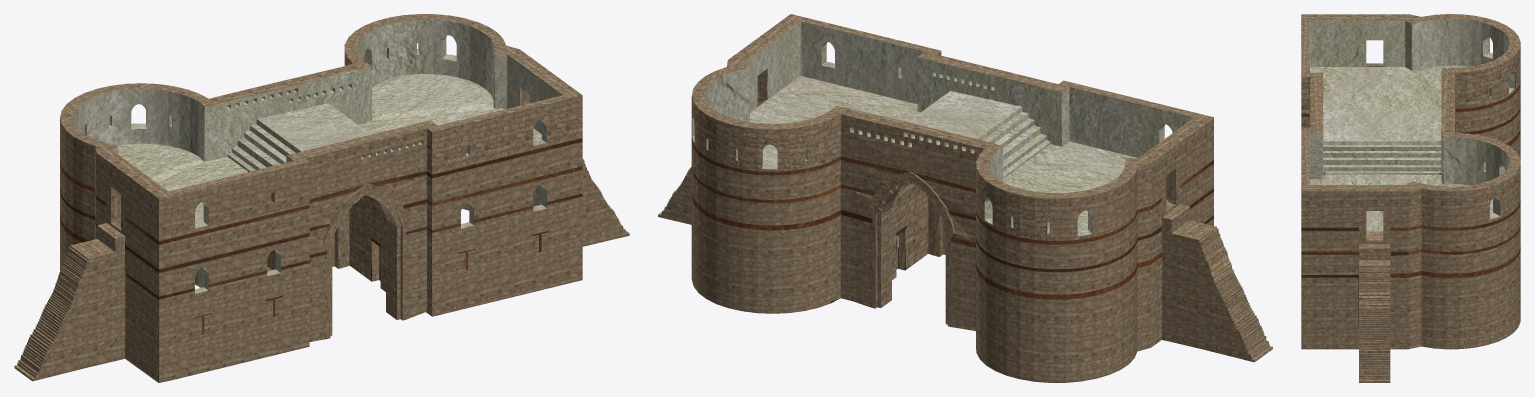
3 views of the same model, side by side, from view 1: azimuth 30°, elevation 25°; view 2: azimuth 150°, elevation 25°; view 3: azimuth 270°, elevation 25° (orthographic). The views are drawn at different scales.
Visible parts, largest first — view 1: SAU_002_M2_BabJadid; view 2: SAU_002_M2_BabJadid; view 3: SAU_002_M2_BabJadid.
Part boxes in pixels (x1,y1,x2,y2): SAU_002_M2_BabJadid: (14,14,629,382); SAU_002_M2_BabJadid: (658,14,1272,382); SAU_002_M2_BabJadid: (1301,14,1520,382).
Size of the model in its own units: 29.74 by 8.87 by 11.06.
1 material, 1 textured.
